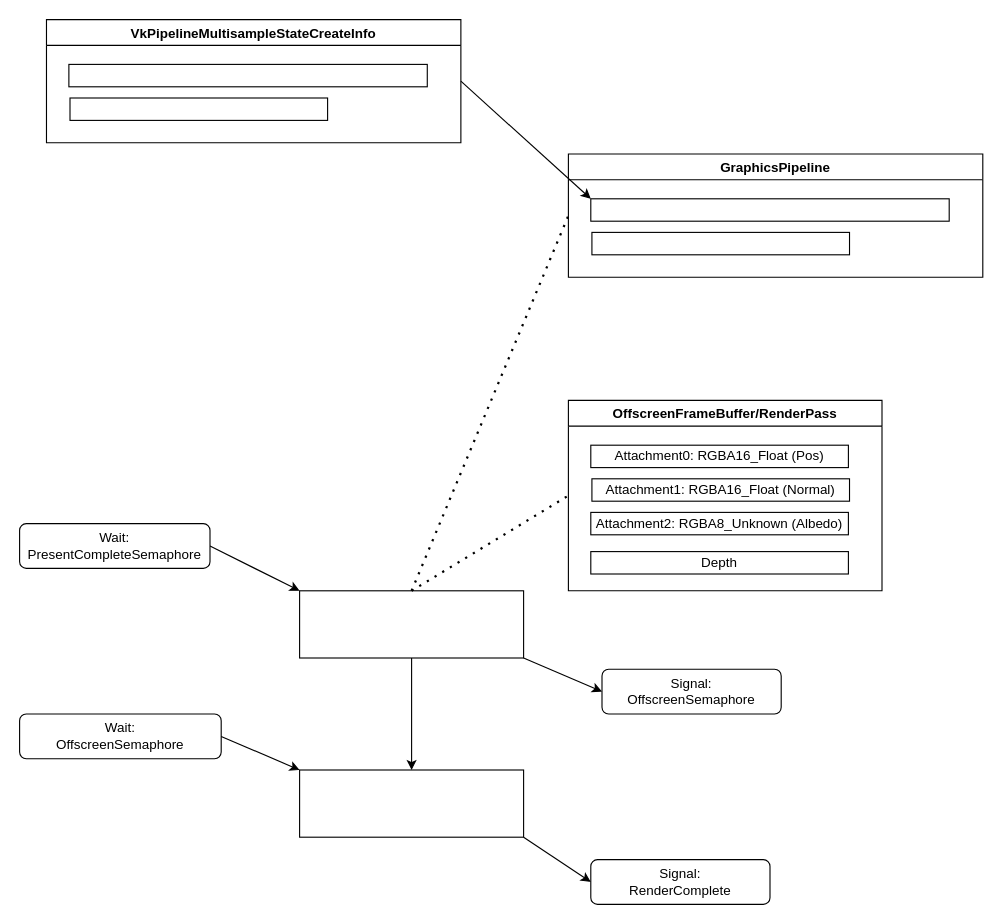
Image size: 1002x924. Some labels were removed from this diagram. Here are the shapes that lost their labels. From the top down, the centre of each, then its label:
the point at 247,75: .sampleShadingEnable = VK_TRUE
the point at 198,108: .minSampleShading = 0.25f
the point at 769,209: UseSampleShading: SampleShadingPipelline
the point at 720,243: !UseSampleShading: OffscreenPipeline
the point at 411,624: QueueSubmit:OffscreenCmdBuffer
the point at 411,803: QueueSubmit:DrawCmdBuffer
